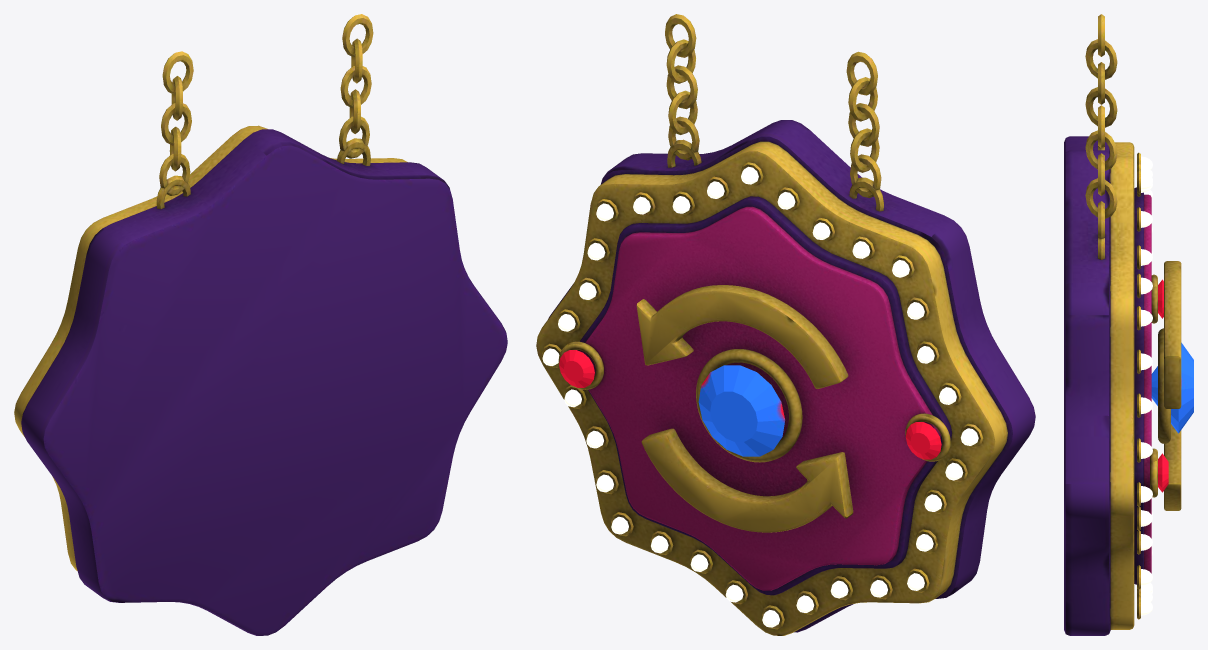
3 renders of one model, left to right at view 1: azimuth 30°, elevation 25°; view 2: azimuth 150°, elevation 25°; view 3: azimuth 270°, elevation 25°, orthographic. The views are drawn at different scales.
Parts seen in each view (by area): view 1: Royal_purple_backing, Prize_polished_gold; view 2: Prize_polished_gold, Magenta_glossy_lacquer, Royal_purple_backing, glow_Sapphire_and_ruby_facets, glow_Warm_white_marquee; view 3: Royal_purple_backing, Prize_polished_gold, glow_Warm_white_marquee, Magenta_glossy_lacquer, glow_Sapphire_and_ruby_facets.
Part boxes in pixels (box(x1,y1,x2,y2)): Royal_purple_backing: box(21, 129, 507, 635); Prize_polished_gold: box(14, 14, 407, 570); Prize_polished_gold: box(536, 14, 1007, 635); Magenta_glossy_lacquer: box(579, 206, 940, 590); Royal_purple_backing: box(548, 120, 1035, 632); glow_Sapphire_and_ruby_facets: box(559, 350, 941, 459); glow_Warm_white_marquee: box(542, 166, 978, 627); Royal_purple_backing: box(1064, 136, 1143, 635); Prize_polished_gold: box(1085, 14, 1181, 629); glow_Warm_white_marquee: box(1141, 156, 1152, 615); Magenta_glossy_lacquer: box(1144, 194, 1151, 573); glow_Sapphire_and_ruby_facets: box(1151, 279, 1193, 492).
Bounding box in the file's own units: 2.24 × 2.69 × 0.5556.
5 materials, 4 textured.
